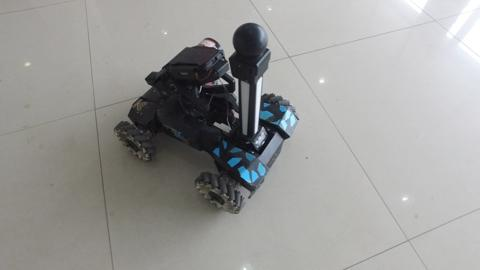chariot: (111, 37, 299, 213)
